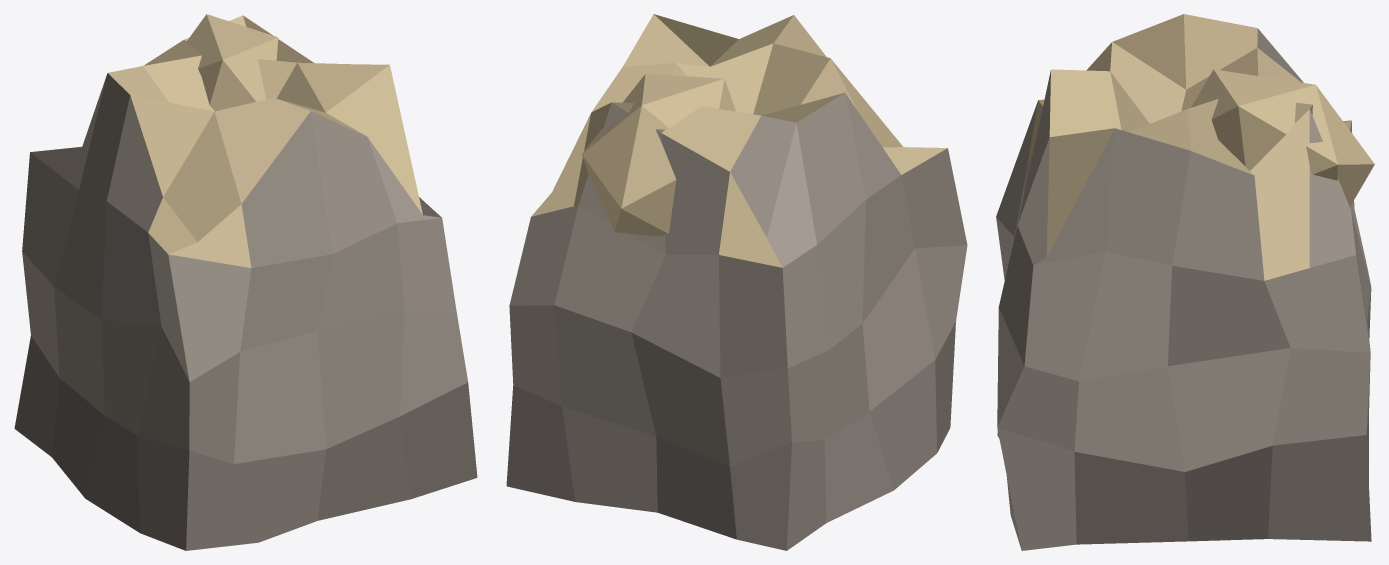
The model's file is rock_0.glb.
3 views of the same model, side by side, from view 1: azimuth 30°, elevation 25°; view 2: azimuth 150°, elevation 25°; view 3: azimuth 270°, elevation 25° (orthographic). The views are drawn at different scales.
Visible parts, largest first — view 1: rock_0; view 2: rock_0; view 3: rock_0.
Part boxes in pixels (x1=…): rock_0: x1=14, y1=14, x2=477, y2=550; rock_0: x1=506, y1=14, x2=967, y2=550; rock_0: x1=996, y1=14, x2=1374, y2=550.
Bounding box in the file's own units: 0.9959 × 1.18 × 1.
